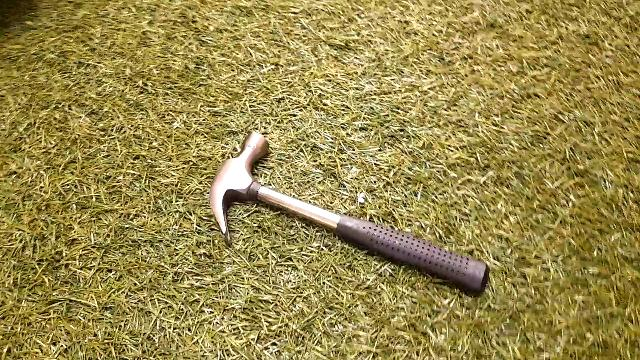hammer: (206, 124, 490, 304)
